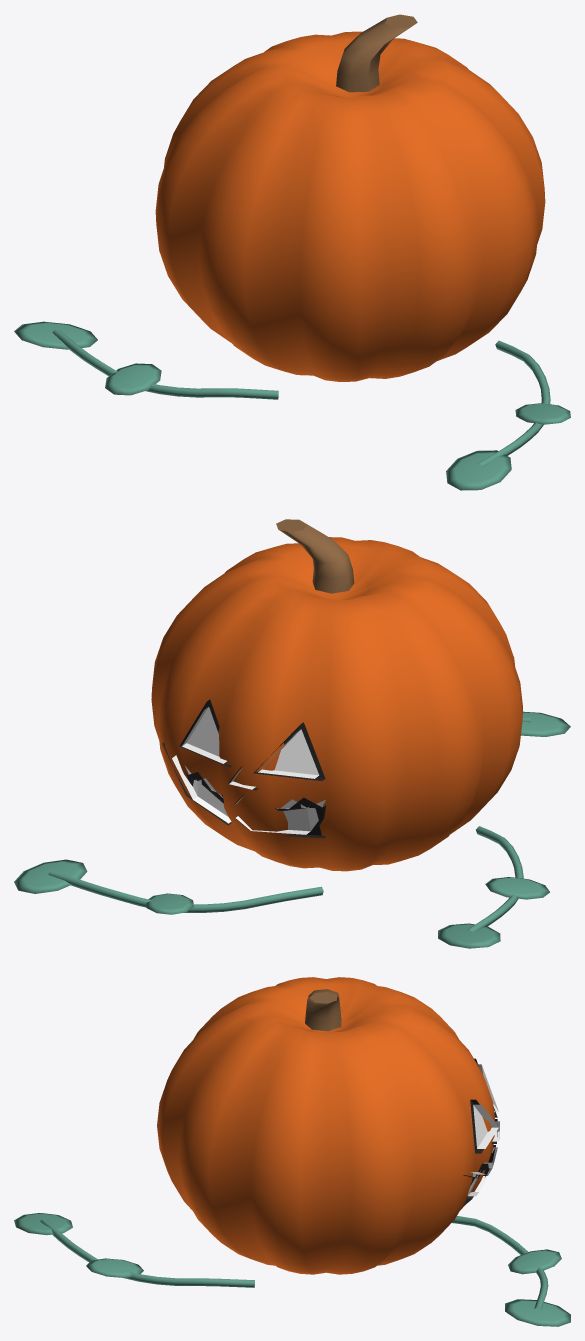
File: GIANT_JACK.glb
3 views of the same model, one above another, from view 1: azimuth 30°, elevation 25°; view 2: azimuth 150°, elevation 25°; view 3: azimuth 270°, elevation 25° (orthographic). The views are drawn at different scales.
Visible parts, largest first — view 1: plastic_0, copper_3, wood_2; view 2: plastic_0, copper_3, lamps_4, wood_2, tread_1; view 3: plastic_0, copper_3, wood_2, lamps_4, tread_1.
Part boxes in pixels (x1,y1,x2,y2): plastic_0: (155,31,545,381); copper_3: (14,321,570,490); wood_2: (336,14,417,92); plastic_0: (151,537,522,871); copper_3: (14,711,570,948); lamps_4: (172,707,325,834); wood_2: (276,519,354,593); tread_1: (162,699,325,838); plastic_0: (157,977,495,1274); copper_3: (14,1213,570,1326); wood_2: (305,989,341,1031); lamps_4: (467,1064,499,1196); tread_1: (463,1058,497,1204).
Bounding box in the file's own units: 10.58 × 7 × 13.15.
